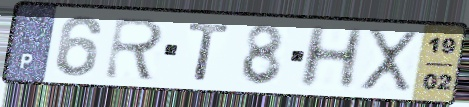6: (53, 13, 104, 78)
8: (241, 22, 288, 88)
H: (295, 23, 369, 90)
R: (101, 14, 168, 83)
T: (186, 21, 234, 83)
X: (359, 27, 421, 94)
